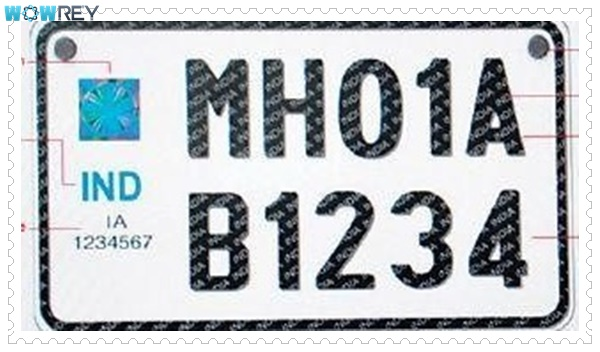number_plate: (36, 21, 572, 329)
